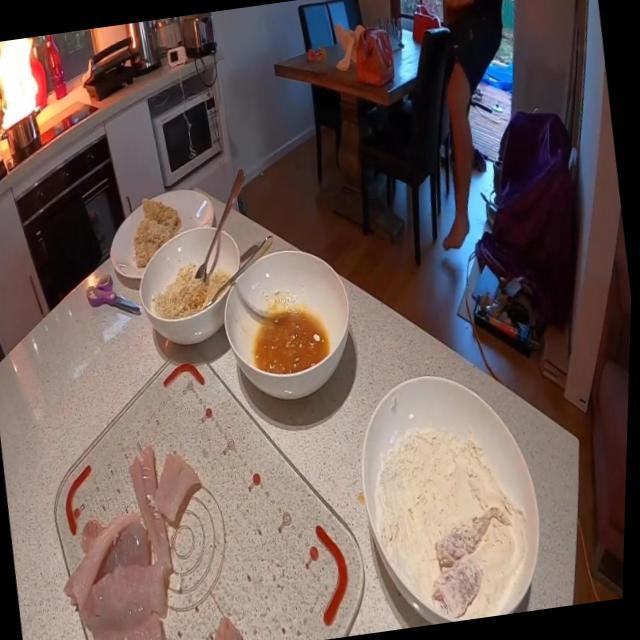fire: (0, 36, 50, 132)
